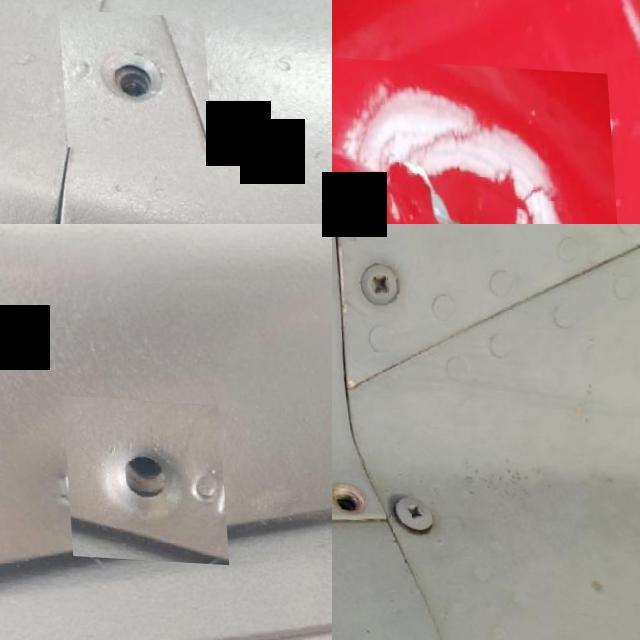Crack: (332, 48, 617, 224)
Missing_Fastener: (59, 395, 224, 562), (58, 5, 210, 150), (332, 457, 380, 530)
